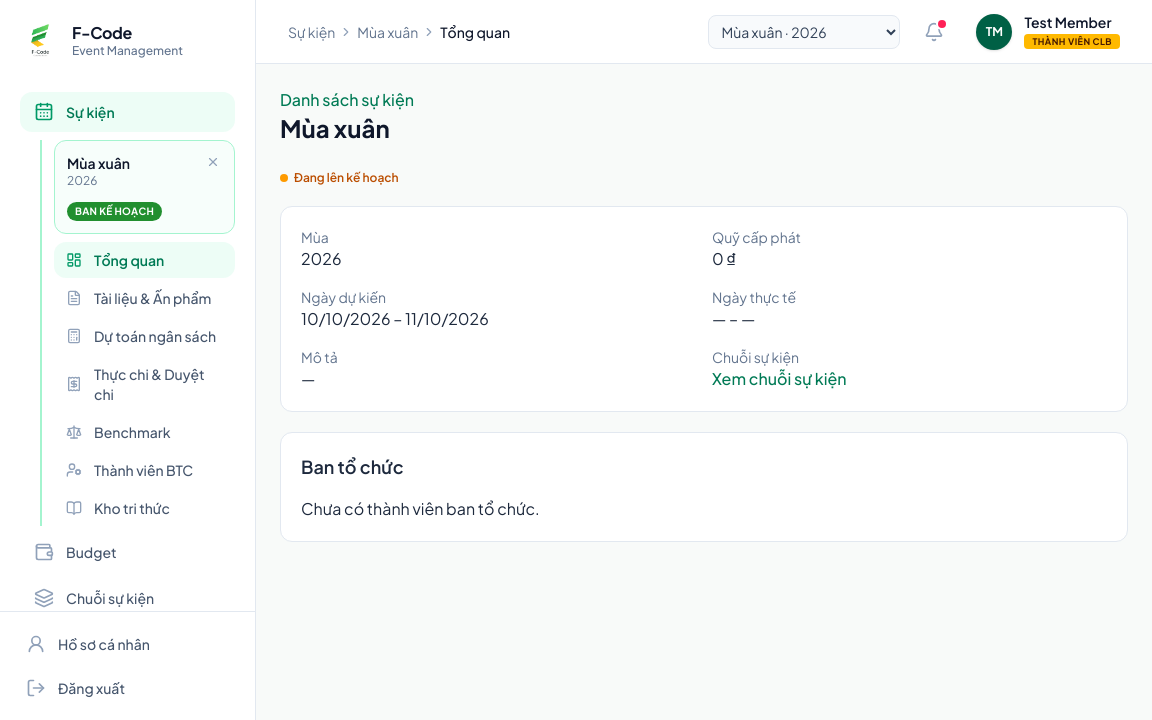
Test case: opens a deep link through the real route guard and switches events from the shell
This screenshot has width=1152, height=720.
Check: the heading "Mùa xuân" is shown, box [280,112,390,144]
Select "Mùa thu · 2026" in the dropdown named "Chuyển mùa sự kiện" at (804,32), box [708,14,900,48]
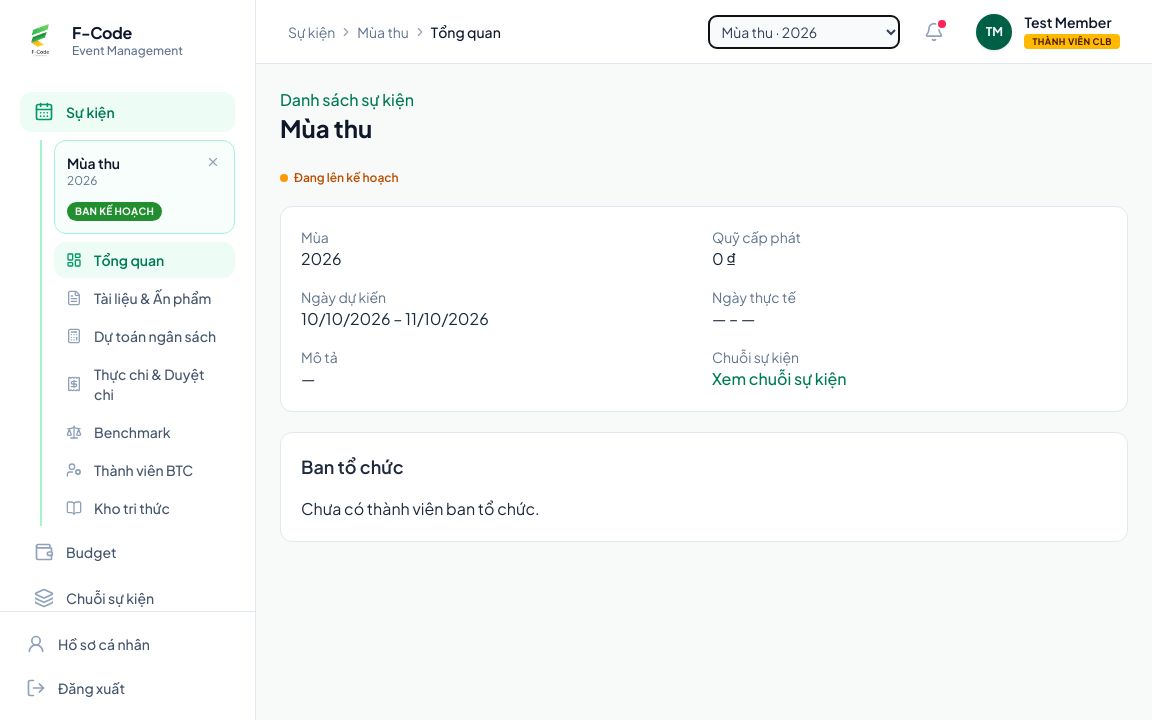
Check: the heading "Mùa thu" is shown, box [280,112,372,144]
